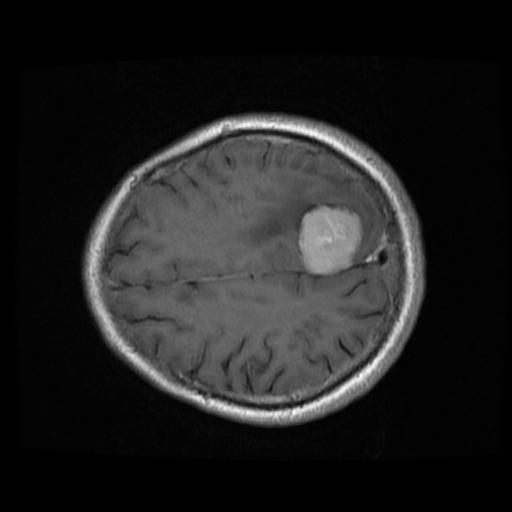meningioma: (297, 204, 364, 276)
